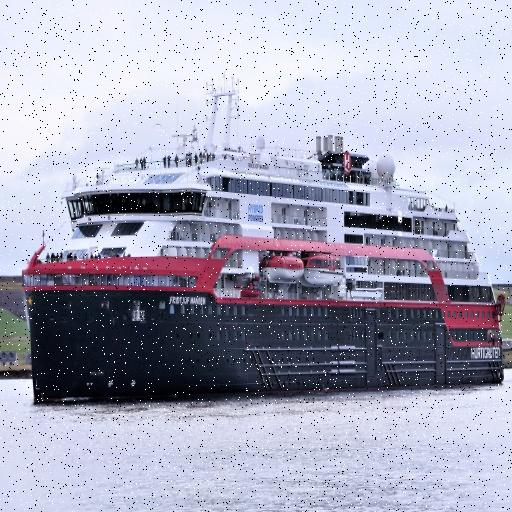cruises: (18, 75, 511, 408)
